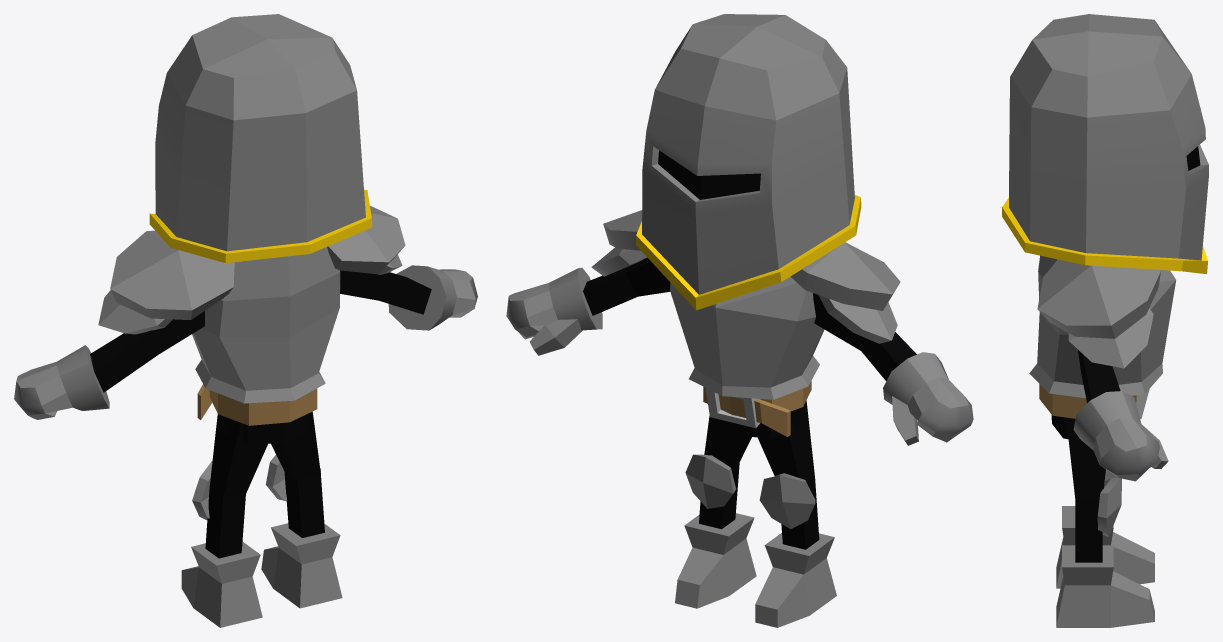
Rendered from dolbaeb.fbx.
3 renders of one model, left to right at view 1: azimuth 30°, elevation 25°; view 2: azimuth 150°, elevation 25°; view 3: azimuth 270°, elevation 25°, orthographic.
Parts seen in each view (by area): view 1: polySurface424; view 2: polySurface424; view 3: polySurface424.
Part boxes in pixels (left/top/right/bottom): polySurface424: left=14, top=14, right=477, bottom=627; polySurface424: left=506, top=14, right=973, bottom=627; polySurface424: left=1002, top=14, right=1208, bottom=627.
Bounding box in the file's own units: 144 × 169 × 55.98.
